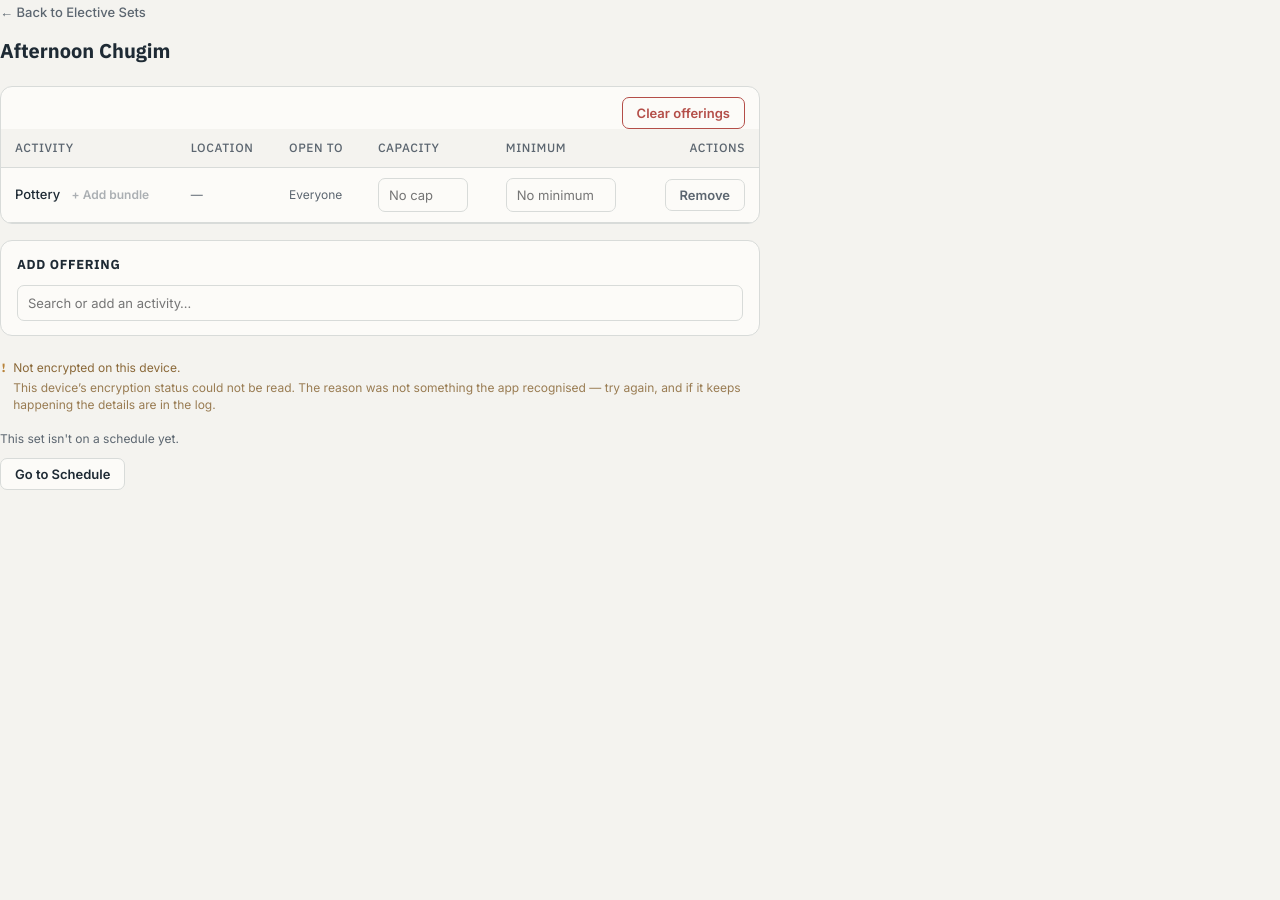
Test: ElectiveSetDetail — Clear offerings control (Tester MEDIUM) › clears all offerings after confirmation, and the import affordance reappears
Expected: the text "Pottery" is shown, [15,186,60,202]
What coordinates should you click on to do the following:
click the button "Clear offerings"
I would click on:
 (683, 113)
Its box is [622,97,745,129].
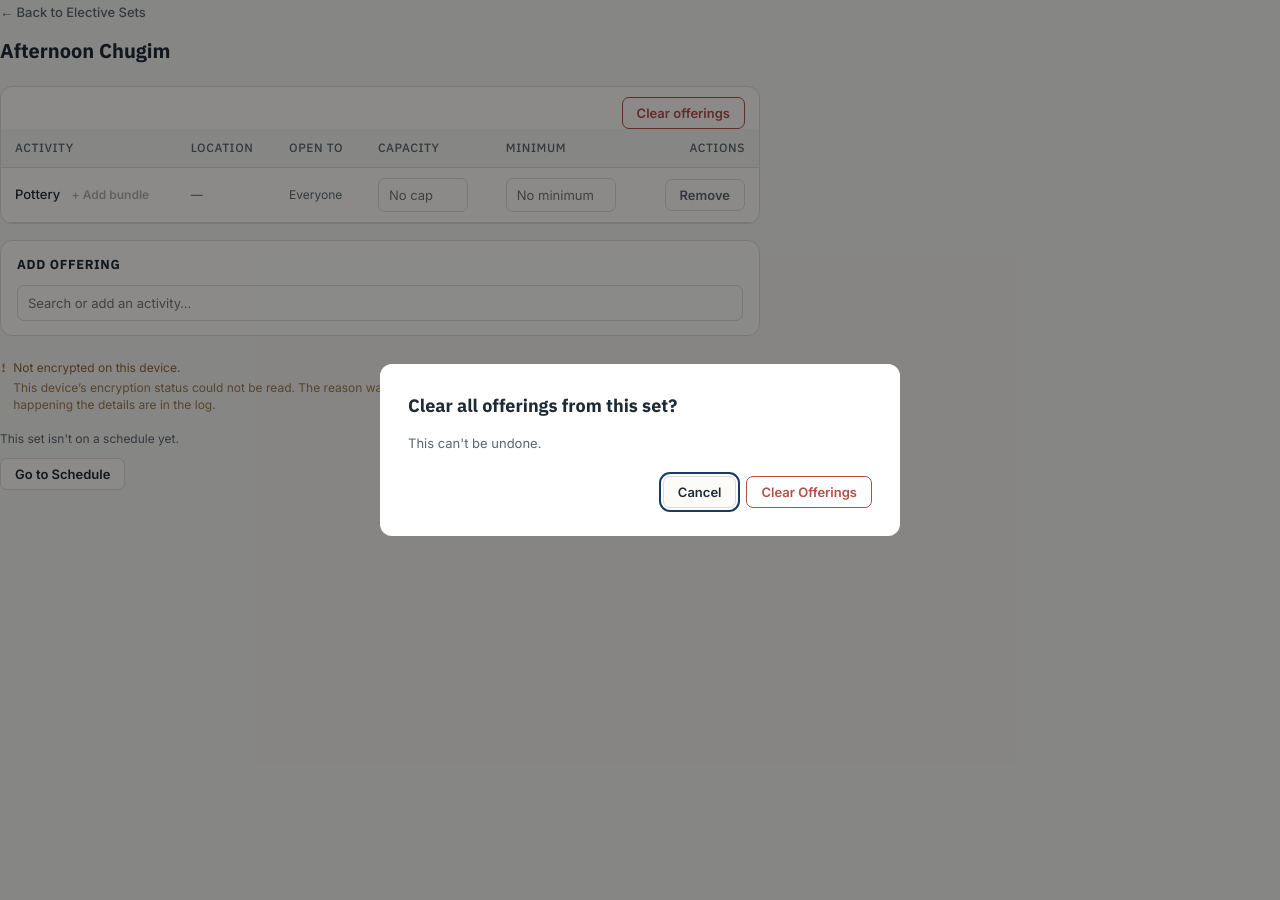
Expected: the text "Clear all offerings from this set?" is shown, [408,394,677,417]
What coordinates should you click on to do the following:
click the button "Clear Offerings"
I would click on:
 (809, 492)
Its box is [746,476,872,508].
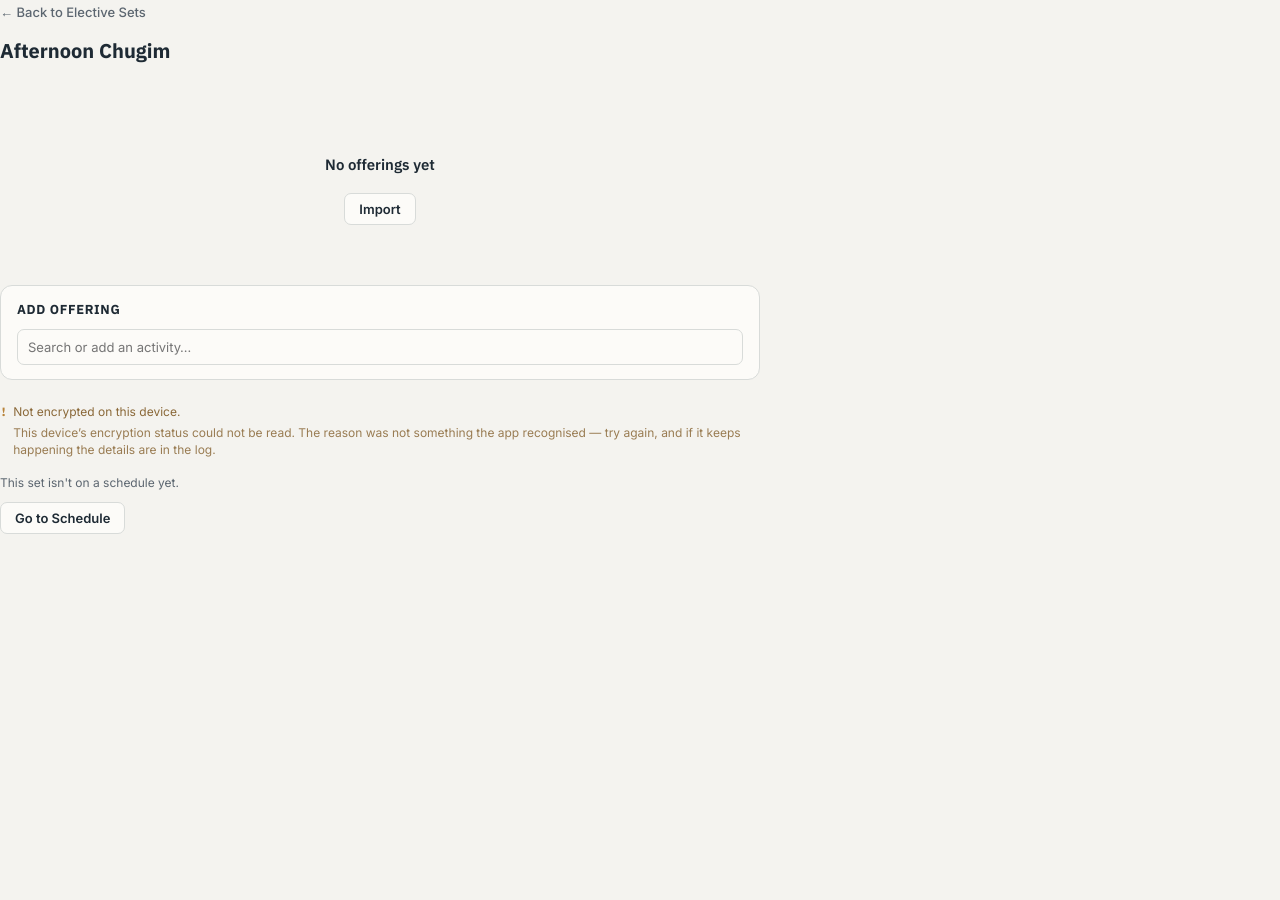
Expected: the text "No offerings yet" is shown, [325,154,435,176]
Expected: the button "Import" is shown, [344,192,416,224]
